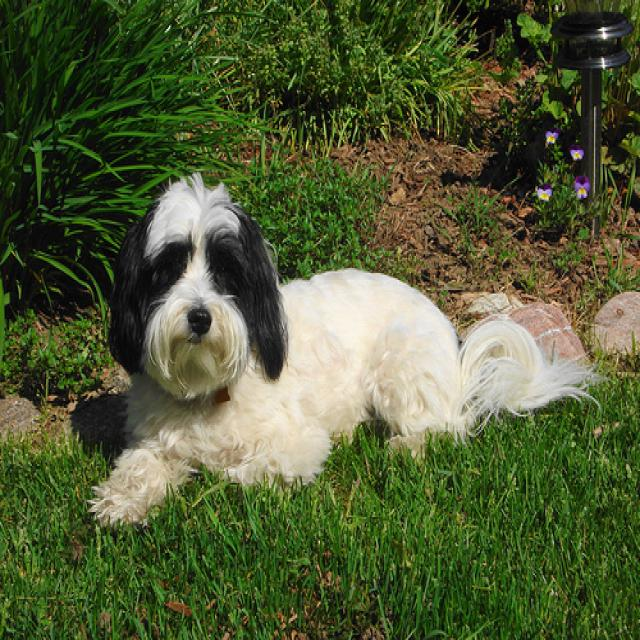dog-havanese: (83, 164, 607, 534)
